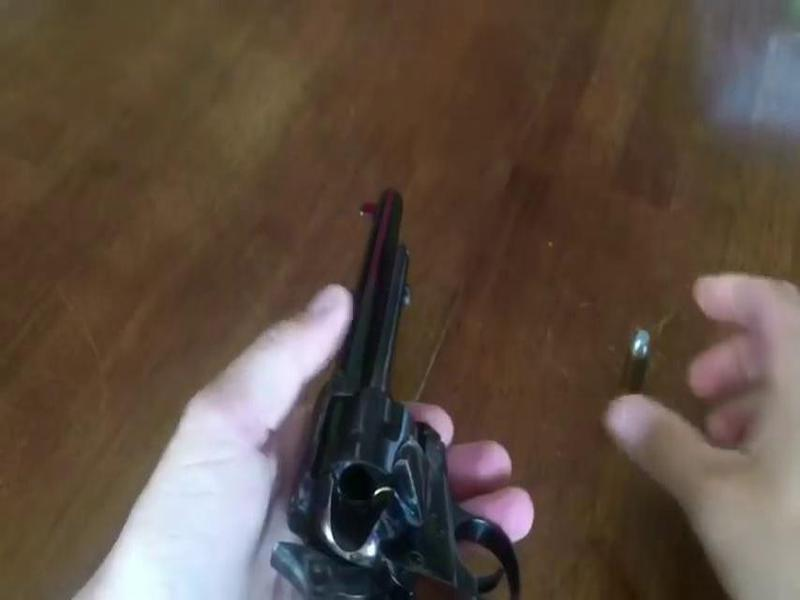Revolver: (265, 152, 498, 600)
